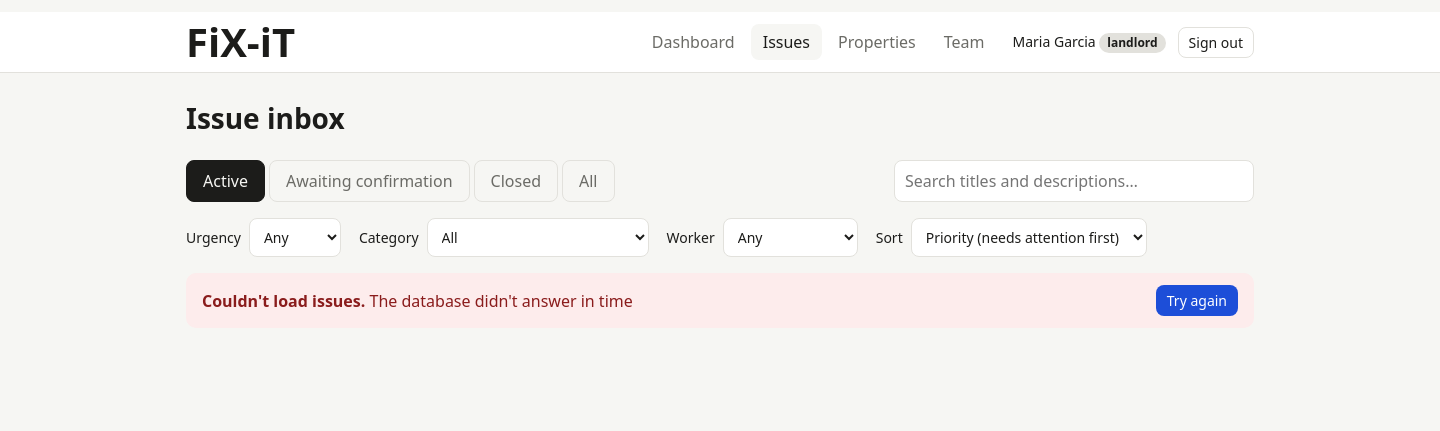
it: loading, empty and error states › shows a skeleton, then the problem's message with a 'Try again' that re-fetches
The width and height of the screenshot is (1440, 431).
Later steps or results of the test are not shown.
Check: the message shows "Couldn't load issues. The database didn't answer in time", box [186,273,1254,328]
Click the button "Try again" at (1197, 300), box [1156,285,1238,316]
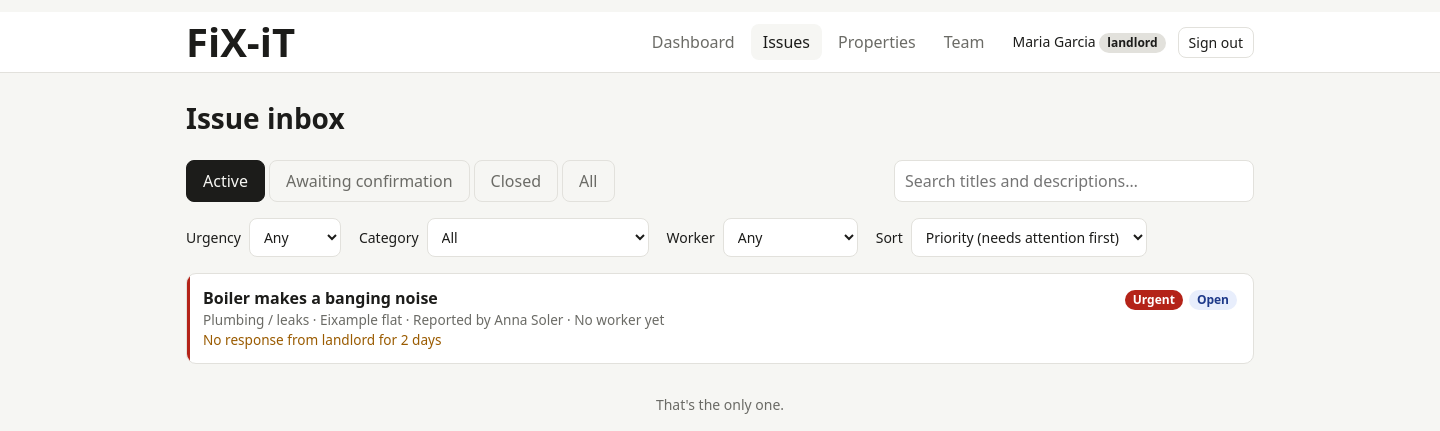
Check: the text "Boiler makes a banging noise" is shown, box [203,286,438,310]
Check: the message "Couldn't load issues. The database didn't answer in time Try again" is gone
